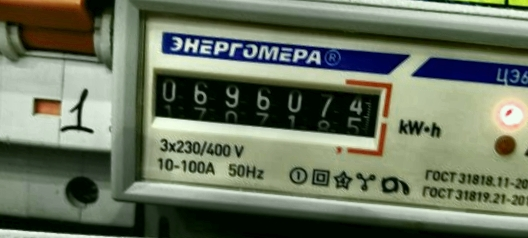0: (159, 75, 180, 102), (285, 85, 305, 113)
4: (347, 91, 365, 115)
5: (345, 114, 363, 135)
6: (253, 82, 274, 111), (191, 78, 211, 104)
7: (317, 90, 335, 117)
9: (222, 80, 241, 107)
screen: (137, 53, 397, 159)
